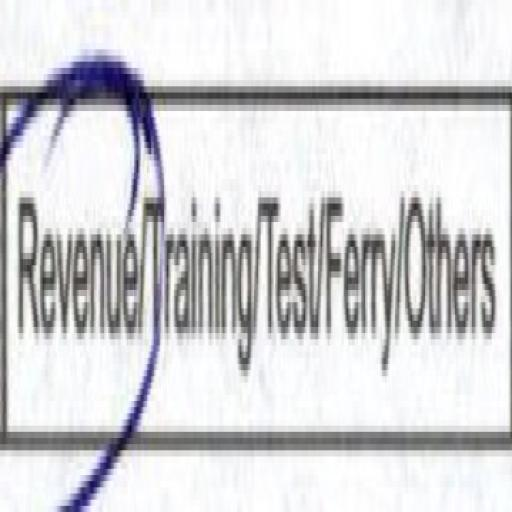check: (0, 30, 145, 512)
